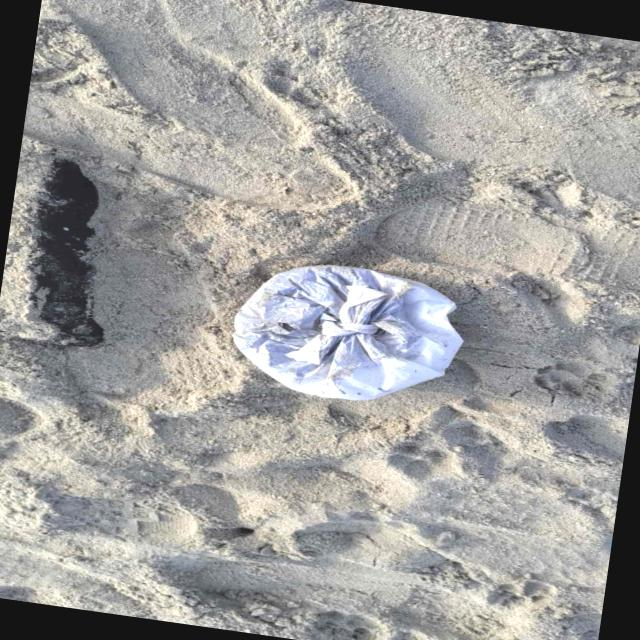tui_ni_long: (235, 265, 463, 400)
